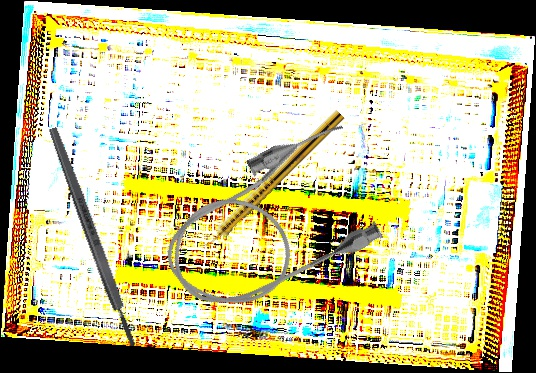Cannula: (142, 113, 398, 333)
Handpiece: (197, 106, 345, 255)
Scalpel Handle: (46, 125, 140, 349)
